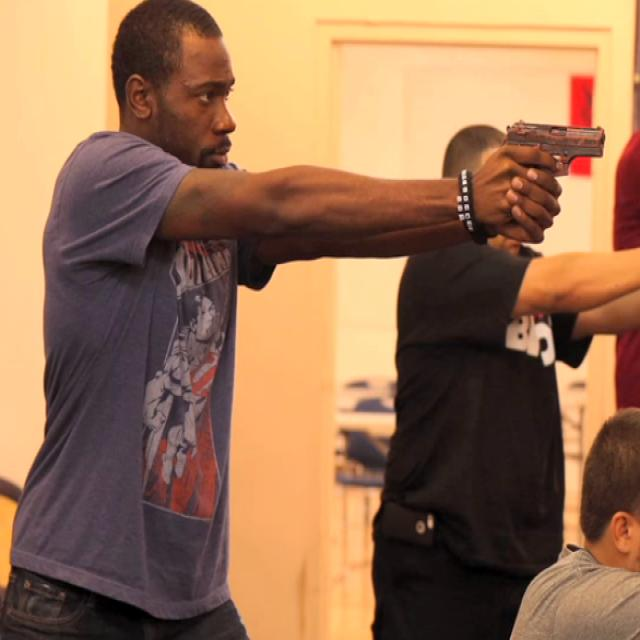gun: (36, 0, 608, 640), (501, 118, 606, 178)
